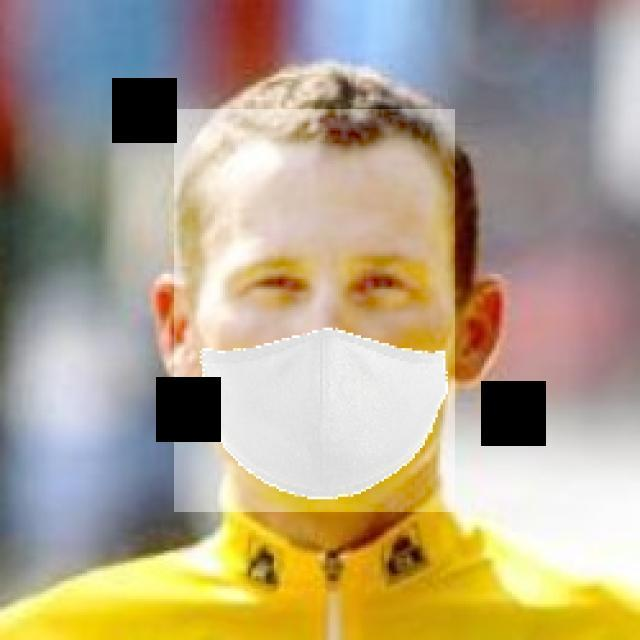cloth: (174, 109, 455, 512)
